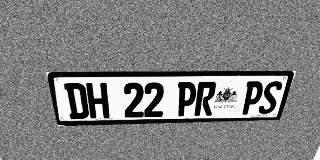2: (123, 82, 143, 118), (144, 82, 164, 117)
D: (64, 83, 90, 119)
H: (86, 83, 110, 119)
P: (240, 81, 265, 115), (176, 82, 198, 116)
R: (194, 82, 217, 116)
S: (257, 81, 284, 114)
